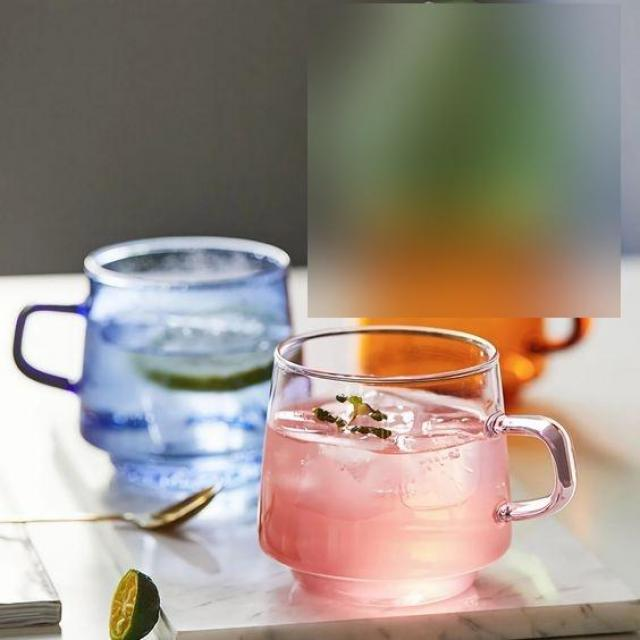glass-mug: (254, 320, 581, 606), (8, 231, 302, 498)
